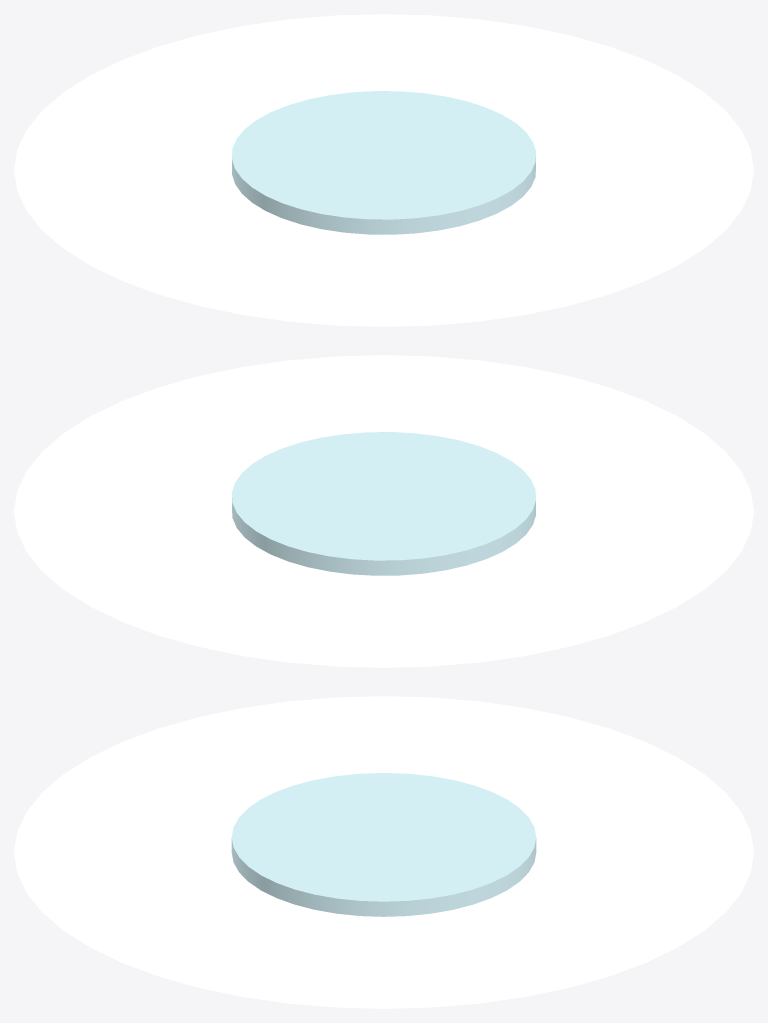
The model's file is pad-b9f2ff.glb.
3 renders of one model, top to bottom at view 1: azimuth 30°, elevation 25°; view 2: azimuth 150°, elevation 25°; view 3: azimuth 270°, elevation 25°, orthographic.
Visible parts, largest first — view 1: plat; view 2: plat; view 3: plat.
Part boxes in pixels (x1,y1,x2,y2): plat: (14,14,753,326); plat: (14,355,753,667); plat: (14,696,753,1008).
Bounding box in the file's own units: 3.4 × 0.08 × 3.4.
2 materials, 2 textured.
